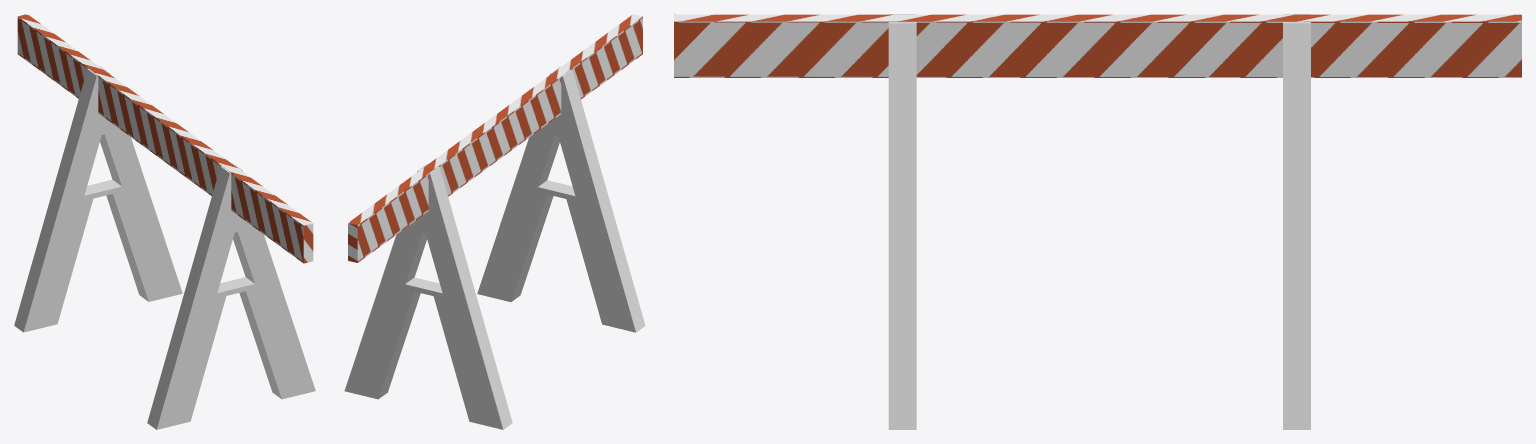
Rendered from OldGuardBorder.fbx.
3 views of the same model, side by side, from view 1: azimuth 30°, elevation 25°; view 2: azimuth 150°, elevation 25°; view 3: azimuth 270°, elevation 25° (orthographic). The views are drawn at different scales.
Parts seen in each view (by area): view 1: Cube.001, Cube, Cube.002; view 2: Cube, Cube.001, Cube.002; view 3: Cube.002, Cube.001, Cube.
Boxes of the visible parts, x1,y1,x2,y2 form: Cube.001: (147, 163, 315, 429); Cube: (14, 66, 182, 332); Cube.002: (17, 14, 313, 263); Cube: (344, 164, 512, 429); Cube.001: (477, 67, 645, 332); Cube.002: (348, 14, 642, 262); Cube.002: (674, 14, 1521, 77); Cube.001: (888, 14, 916, 429); Cube: (1283, 14, 1310, 429).
Size of the model in its own units: 140 by 200 by 434.
